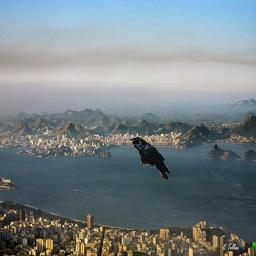Crow: (128, 137, 170, 180)
